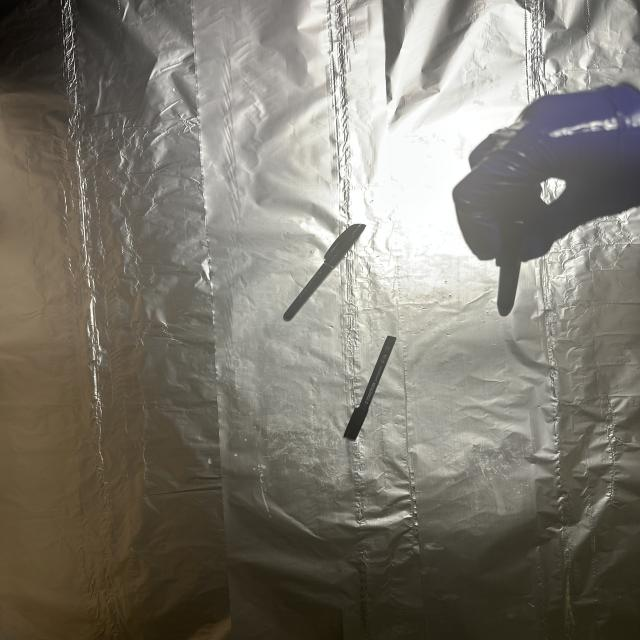gloves_contaminated: (452, 82, 640, 260)
